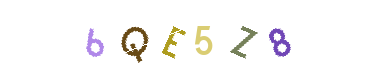5: (155, 0, 235, 80)
6: (88, 0, 168, 80)
8: (239, 0, 319, 80)
E: (150, 0, 230, 80)
Q: (95, 0, 175, 80)
Z: (160, 0, 240, 80)
